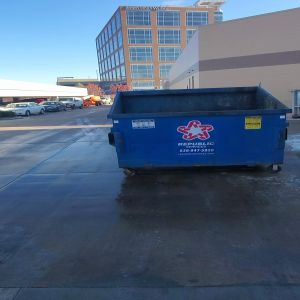Dumpster: (108, 89, 292, 177)
